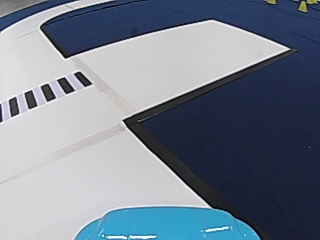CrossWalk: (4, 71, 89, 118)
